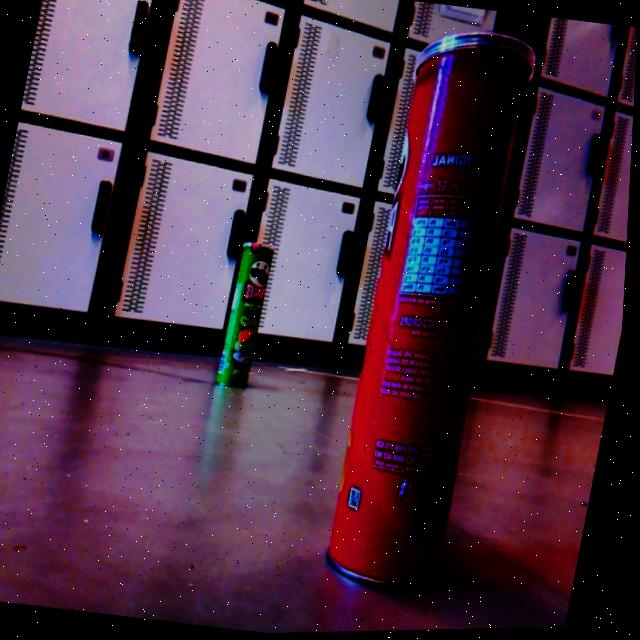greenpringles: (214, 236, 283, 392)
redpringles: (306, 19, 544, 618)
